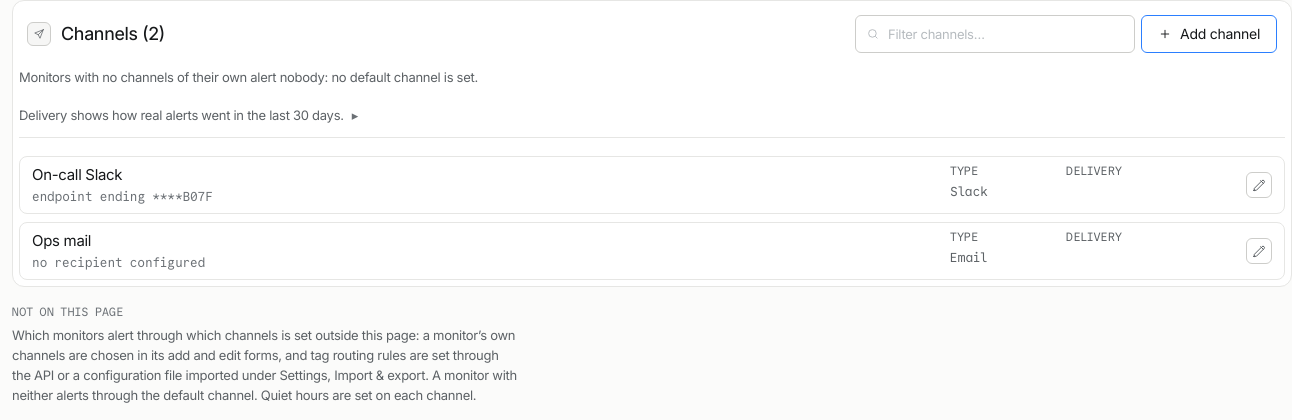
Test: NotificationsView › does not say alerts are going nowhere when a filter matched nothing
Type "zzzz" into the search field. click: (1006, 34)
box: [888,26,1124,42]
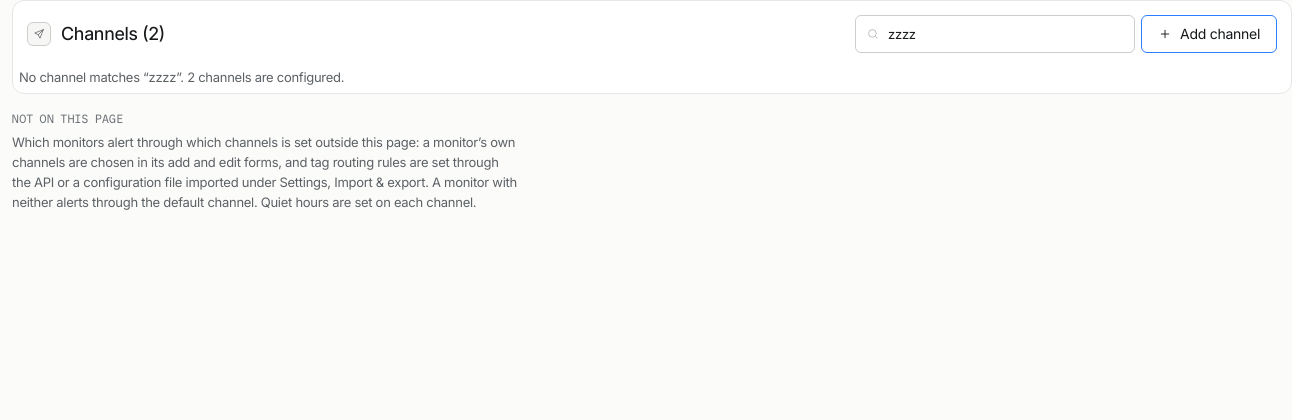
Expected: the text "No channel matches “zzzz”. 2 channels are configured." is shown, [19,69,344,85]
